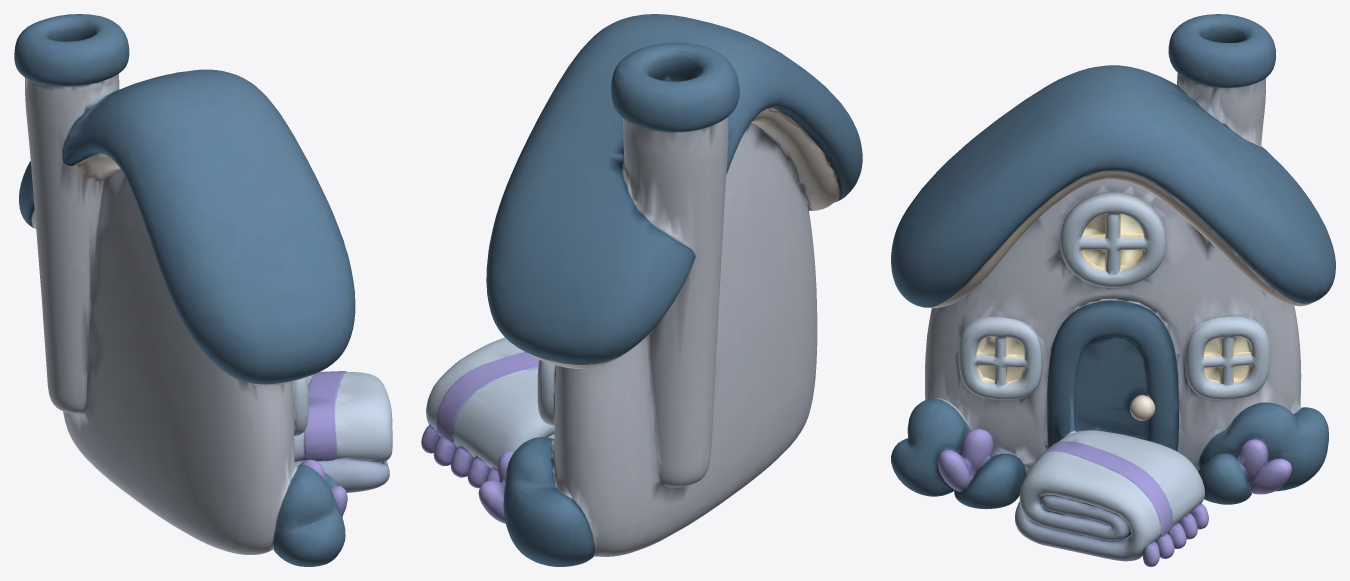
The model's file is urgenza-casa.glb.
The picture shows the model from 3 angles, left to right: view 1: azimuth 30°, elevation 25°; view 2: azimuth 150°, elevation 25°; view 3: azimuth 270°, elevation 25°; orthographic projection. The views are drawn at different scales.
Parts seen in each view (by area): view 1: tripo_node_6f491271-5eb2-4dd5-a388-750a00f2c661; view 2: tripo_node_6f491271-5eb2-4dd5-a388-750a00f2c661; view 3: tripo_node_6f491271-5eb2-4dd5-a388-750a00f2c661.
Part boxes in pixels (x1,y1,x2,y2): tripo_node_6f491271-5eb2-4dd5-a388-750a00f2c661: (14,14,392,566); tripo_node_6f491271-5eb2-4dd5-a388-750a00f2c661: (421,14,862,566); tripo_node_6f491271-5eb2-4dd5-a388-750a00f2c661: (891,14,1335,566).
Size of the model in its own units: 0.7309 by 0.98 by 0.9409.
1 material, 1 textured.
